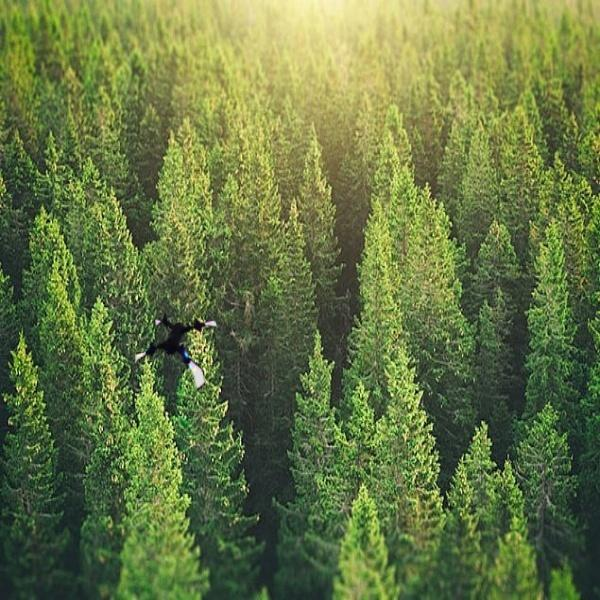drone: (130, 308, 227, 405)
